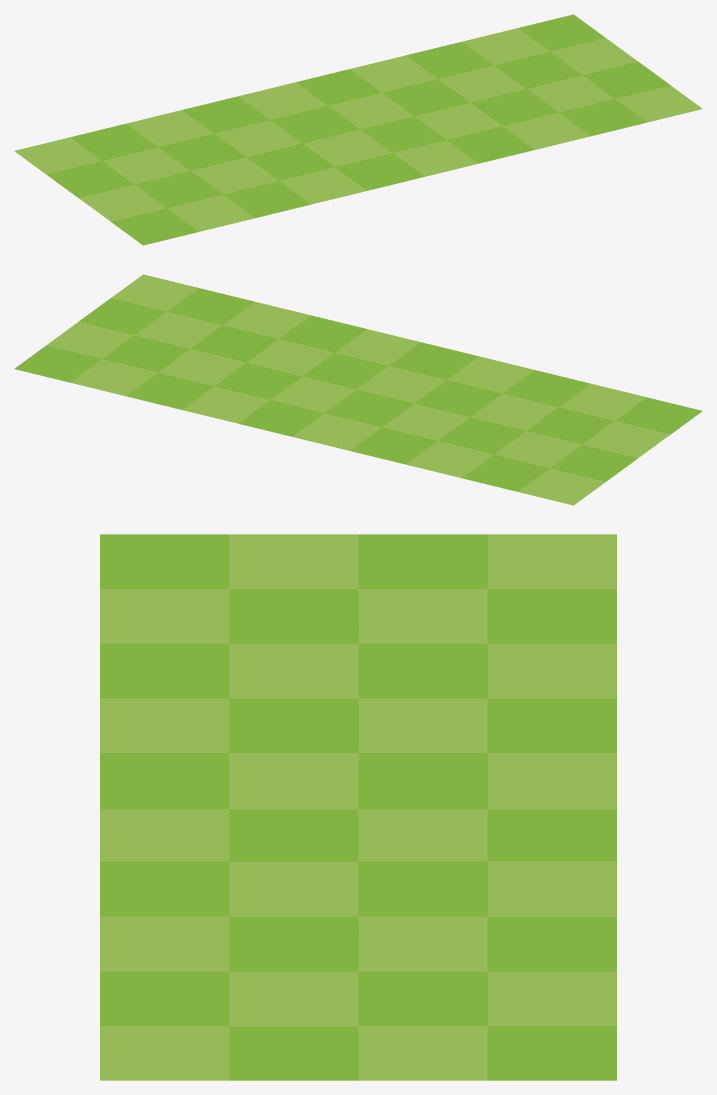
Rendered from Grass4.fbx.
The picture shows the model from 3 angles, top to bottom: view 1: azimuth 30°, elevation 25°; view 2: azimuth 150°, elevation 25°; view 3: azimuth 270°, elevation 25°; orthographic projection. The views are drawn at different scales.
Parts seen in each view (by area): view 1: Plane.001; view 2: Plane.001; view 3: Plane.001.
Boxes of the visible parts, x1,y1,x2,y2 form: Plane.001: [14, 14, 702, 245]; Plane.001: [14, 274, 702, 505]; Plane.001: [100, 534, 616, 1080].
Bounding box in the file's own units: 10 × 6.52e-07 × 4.
